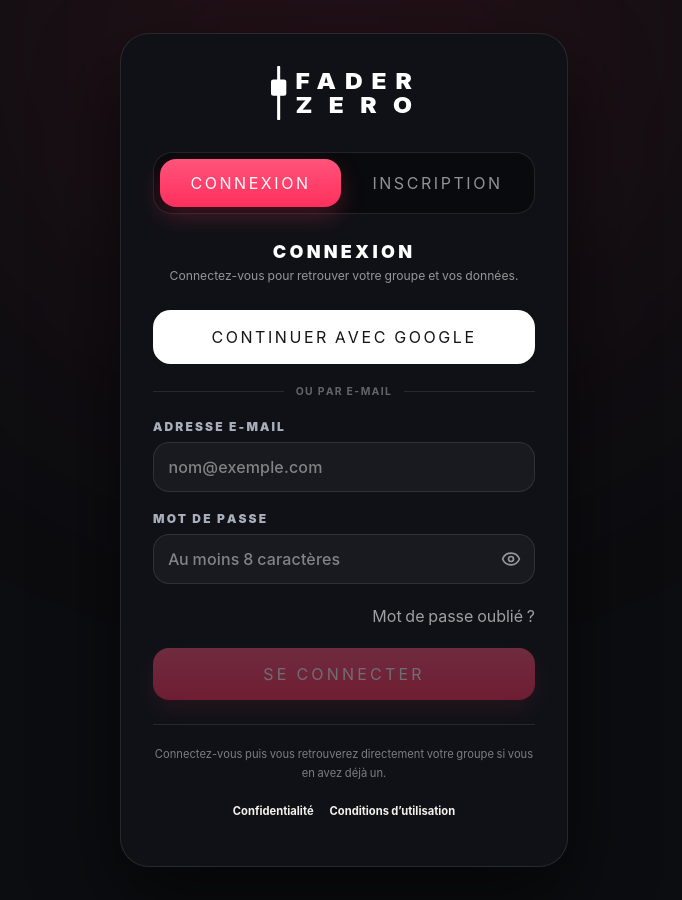
Scenario: LoginPage inscription et récupération › affiche une erreur quand les identifiants de connexion sont incorrects
In the field labelled "Adresse e-mail": [344, 467] box [153,442,535,492], type "inconnu@example.test"
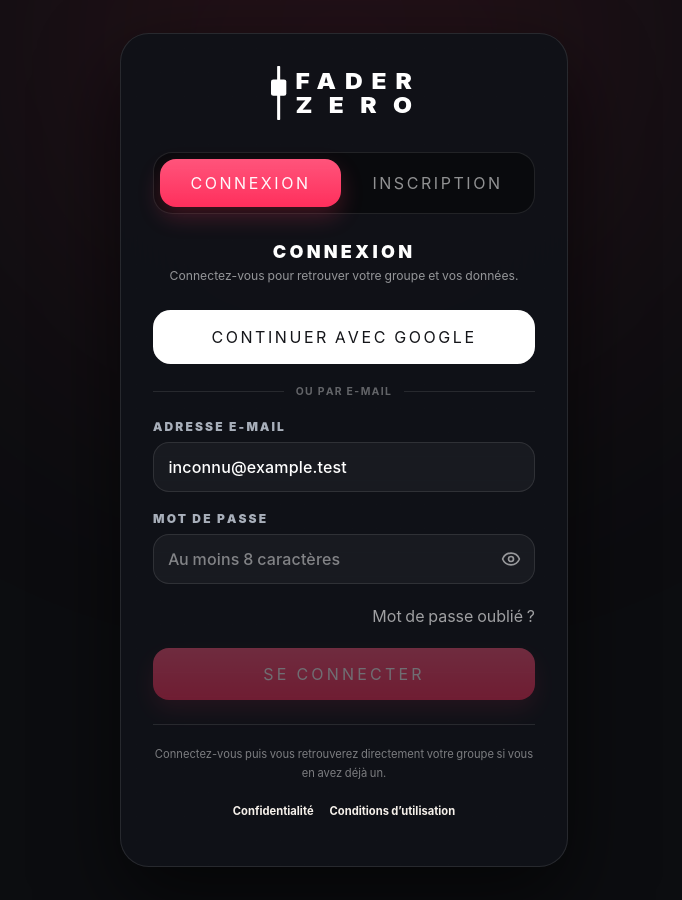
In the password field labelled "Mot de passe": [344, 559] box [153,534,535,584], type "incorrect"
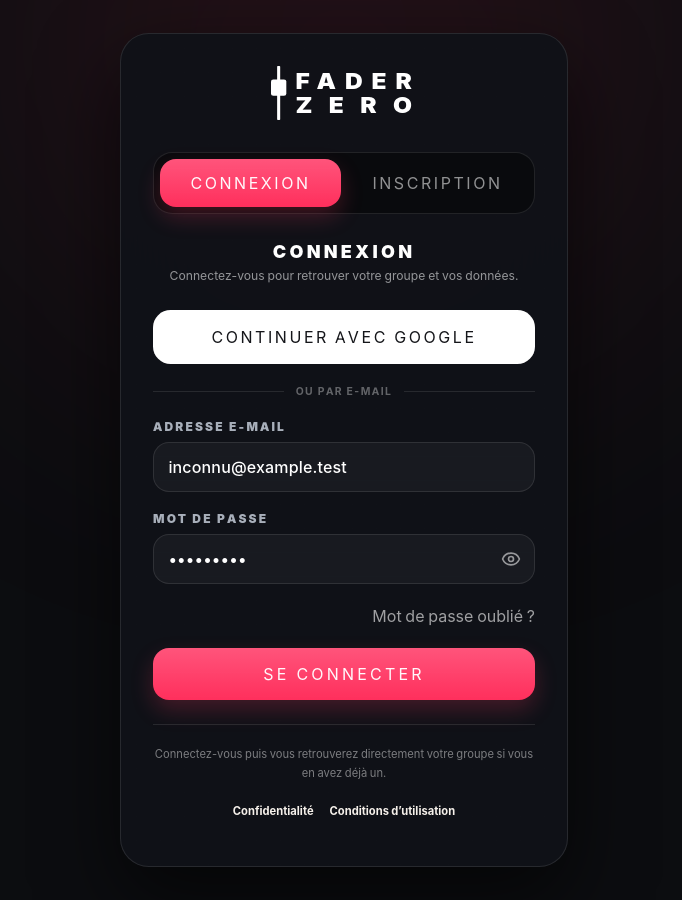
Click the button "Se connecter": [344, 674] box [153,648,535,700]
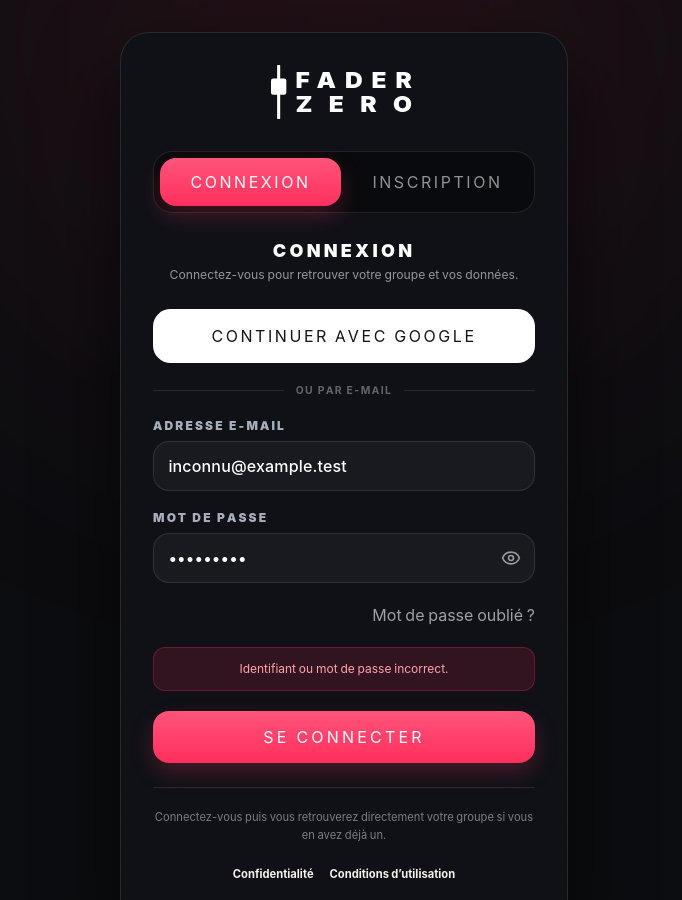
Expected: the text "Identifiant ou mot de passe incorrect." is shown, [153,647,535,691]
